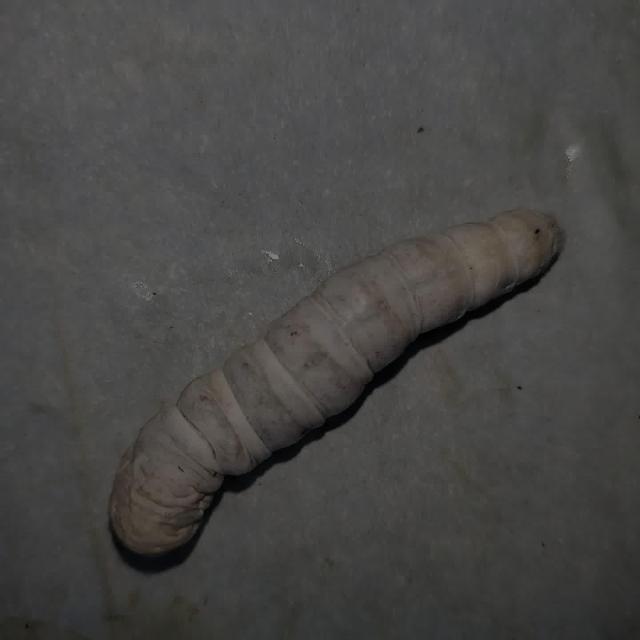Grasserie: (100, 184, 571, 570)
